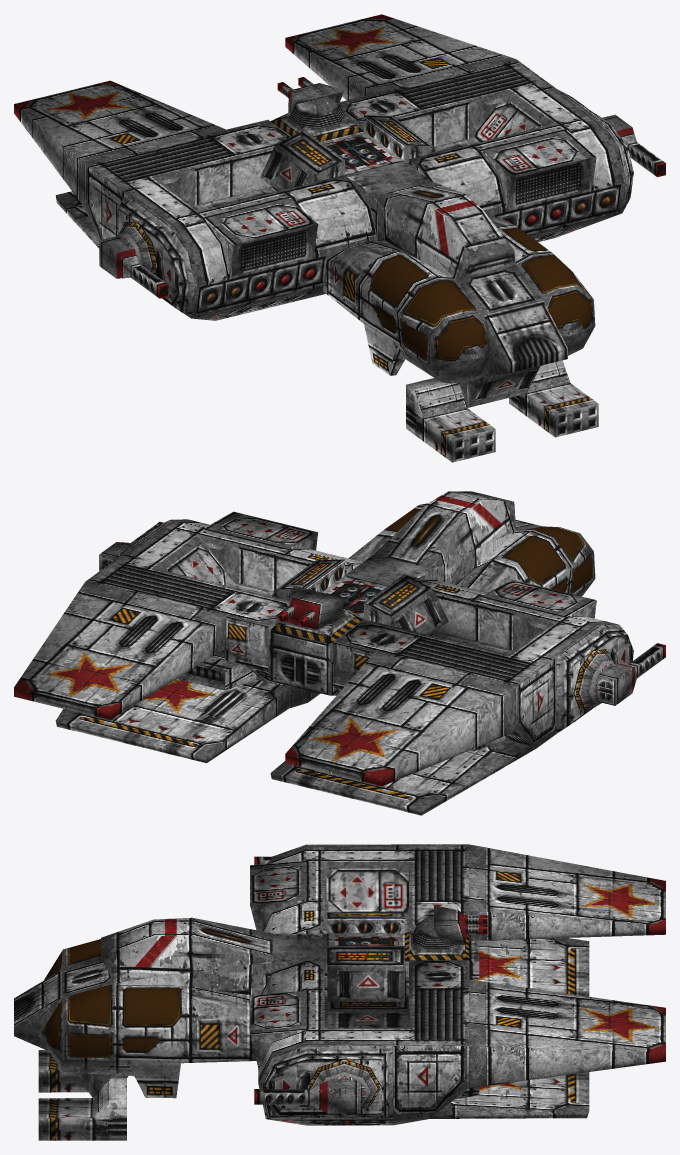
File: cossack.glb
3 renders of one model, top to bottom at view 1: azimuth 30°, elevation 25°; view 2: azimuth 150°, elevation 25°; view 3: azimuth 270°, elevation 25°, orthographic. The views are drawn at different scales.
Visible parts, largest first — view 1: Kossac Body, Kossac Pilot Pod, Kossac Co-pilot pod, Kossac Turret; view 2: Kossac Body, Kossac Pilot Pod, Kossac Turret, Kossac Co-pilot pod; view 3: Kossac Body, Kossac Co-pilot pod, Kossac Turret, Kossac Pilot Pod.
Boxes of the visible parts, left/top/right/bottom form: Kossac Body: left=14, top=14, right=665, bottom=462; Kossac Pilot Pod: left=323, top=240, right=488, bottom=383; Kossac Co-pilot pod: left=488, top=216, right=595, bottom=355; Kossac Turret: left=277, top=77, right=344, bottom=114; Kossac Body: left=14, top=491, right=665, bottom=815; Kossac Pilot Pod: left=457, top=526, right=595, bottom=596; Kossac Turret: left=278, top=586, right=344, bottom=629; Kossac Co-pilot pod: left=348, top=503, right=427, bottom=561; Kossac Body: left=14, top=844, right=665, bottom=1140; Kossac Co-pilot pod: left=38, top=983, right=256, bottom=1098; Kossac Turret: left=434, top=905, right=487, bottom=944; Kossac Pilot Pod: left=43, top=939, right=101, bottom=980.
Size of the model in its own units: 1682 by 615 by 1922.
1 material, 1 textured.
